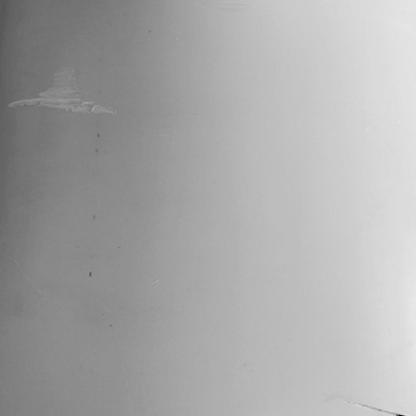sunshang: (5, 68, 116, 117), (354, 398, 416, 416)
